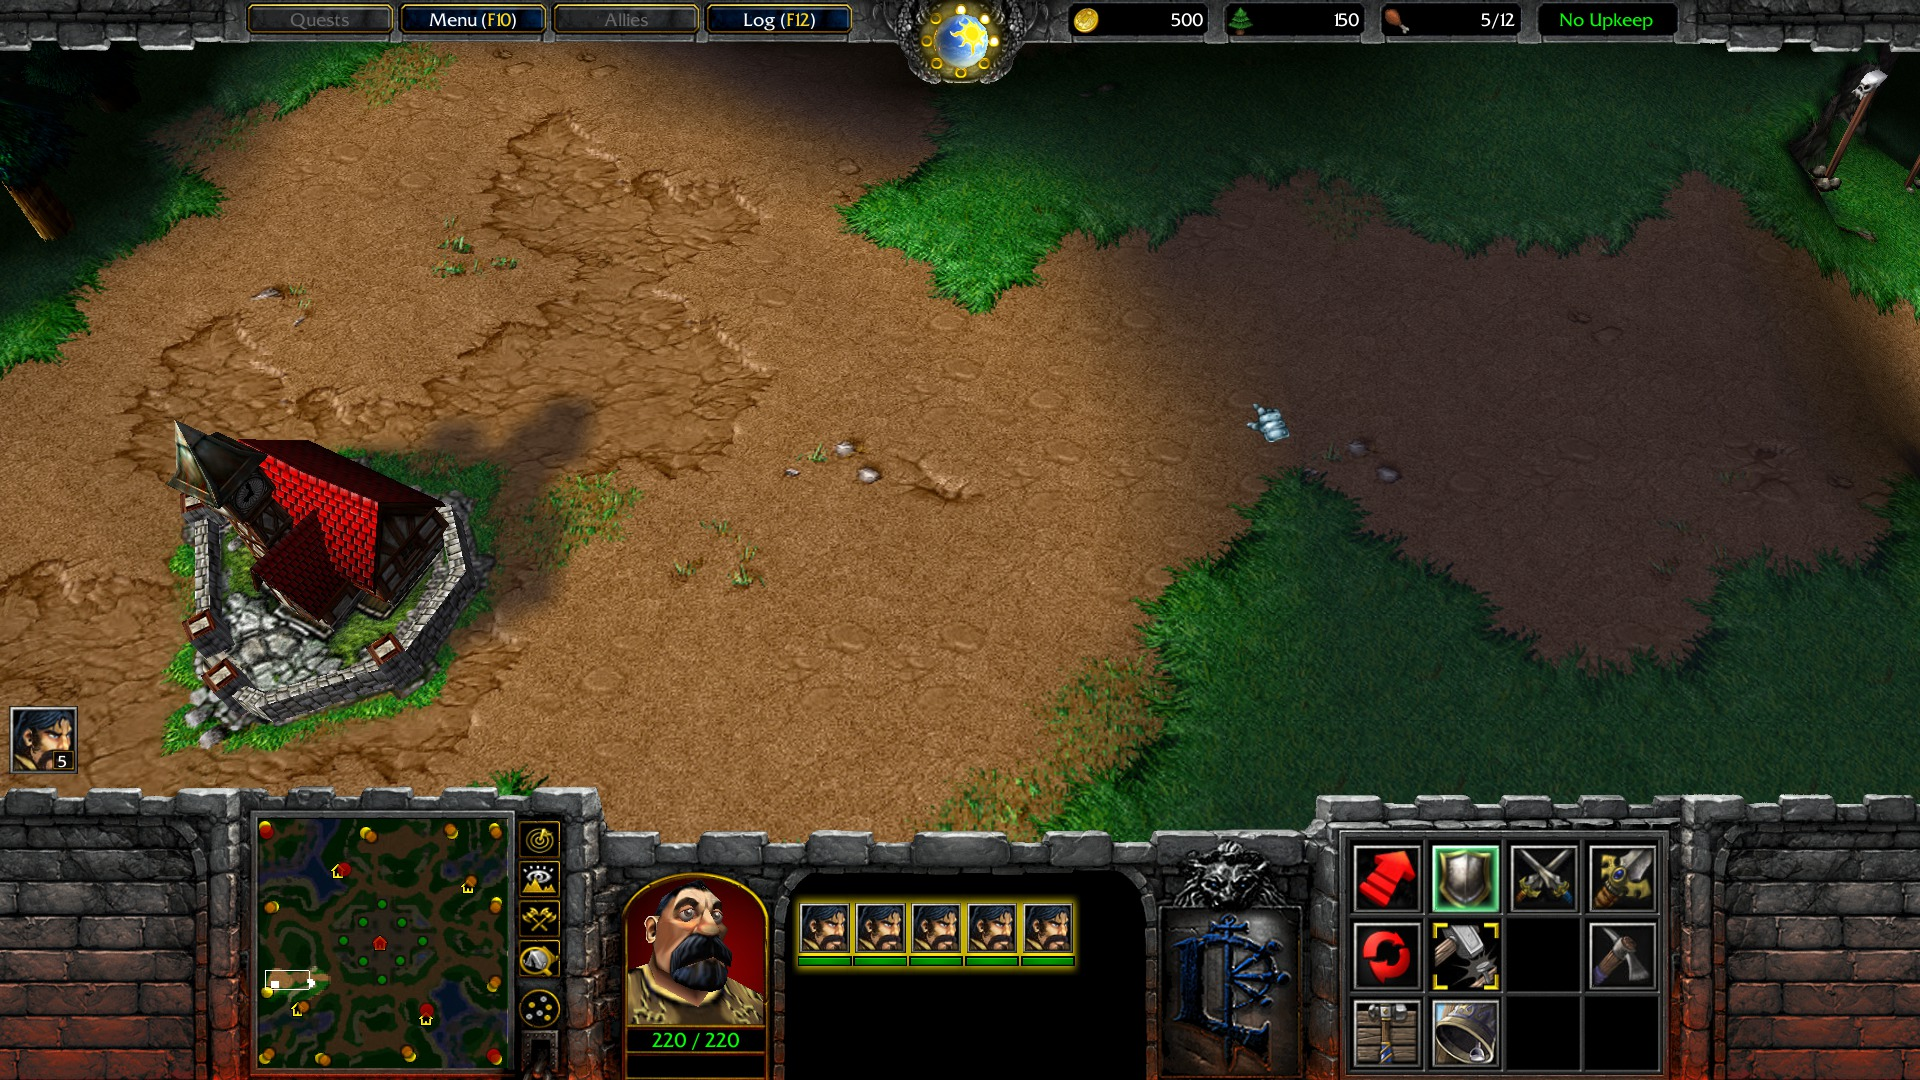Townhall: (156, 419, 509, 759)
